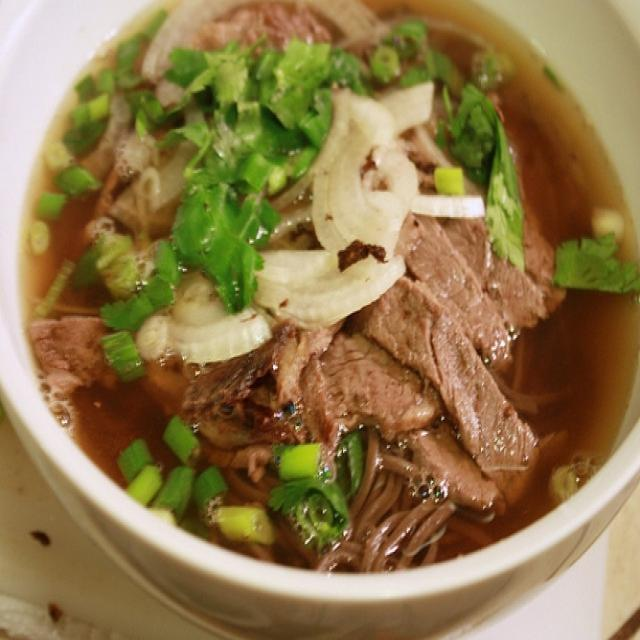面条主食: (20, 10, 632, 599)
